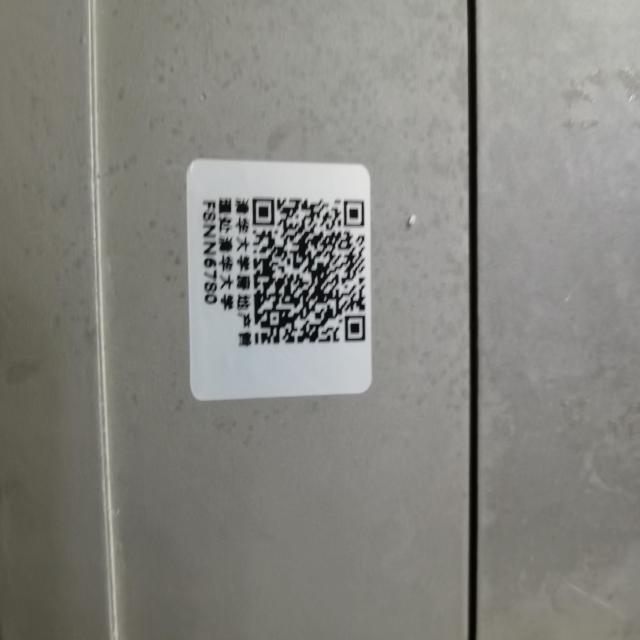qr_code: (253, 197, 367, 345)
